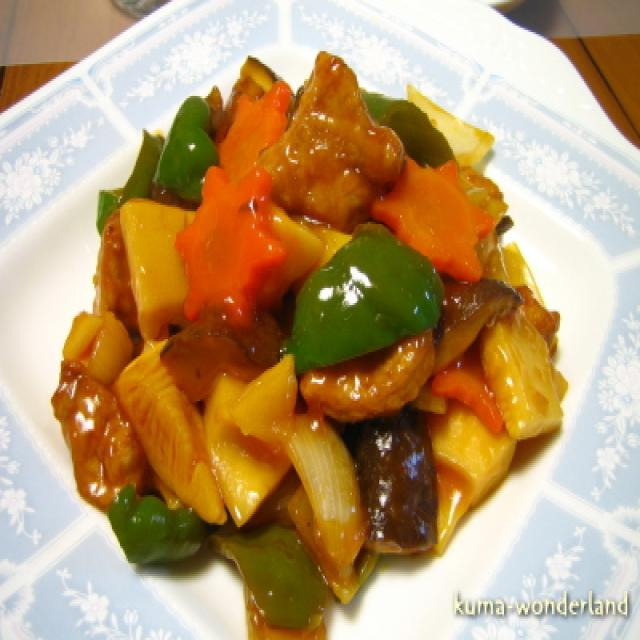猪肉菜式: (51, 51, 568, 640)
